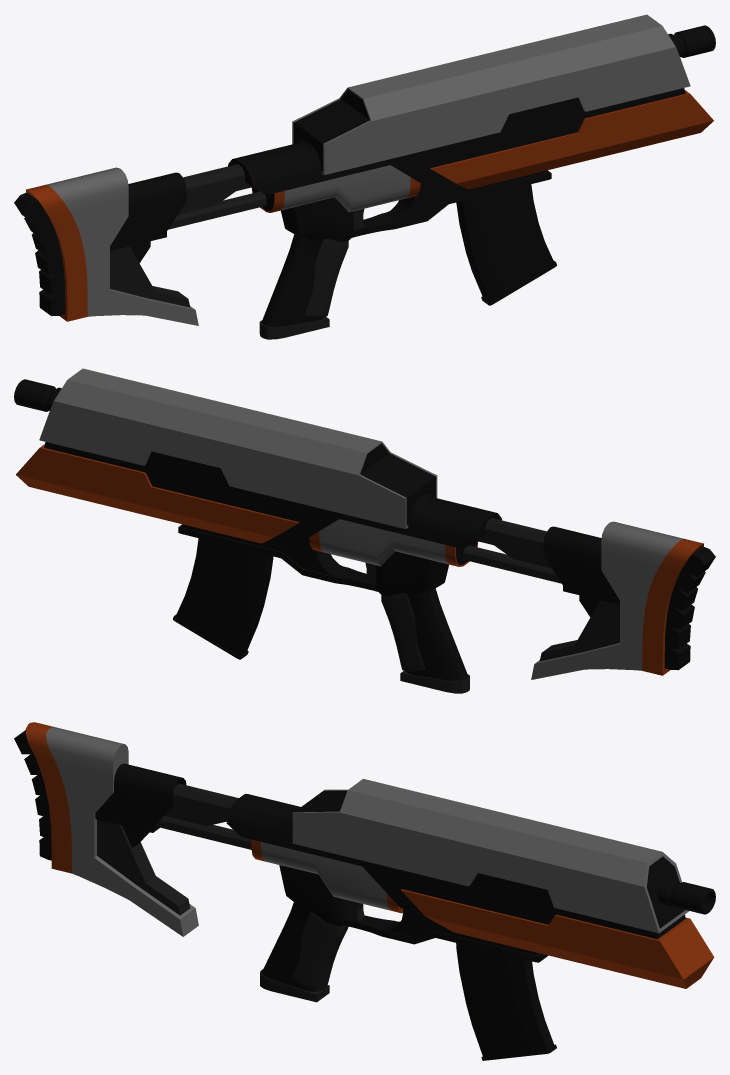
The model's file is SMG_2.obj.
3 views of the same model, one above another, from view 1: azimuth 30°, elevation 25°; view 2: azimuth 150°, elevation 25°; view 3: azimuth 330°, elevation 25° (orthographic).
Visible parts, largest first — view 1: SMG_2_Cube.167, Magazine_SMG_2_Cube.000; view 2: SMG_2_Cube.167, Magazine_SMG_2_Cube.000; view 3: SMG_2_Cube.167, Magazine_SMG_2_Cube.000.
Boxes of the visible parts, x1,y1,x2,y2 form: SMG_2_Cube.167: [14, 14, 715, 339]; Magazine_SMG_2_Cube.000: [456, 184, 556, 305]; SMG_2_Cube.167: [14, 368, 715, 693]; Magazine_SMG_2_Cube.000: [173, 538, 273, 659]; SMG_2_Cube.167: [14, 722, 715, 1002]; Magazine_SMG_2_Cube.000: [456, 943, 556, 1060].
Size of the model in its own units: 2.2 by 0.7377 by 0.176.
